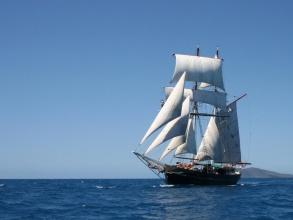fanchuan: (133, 47, 252, 192)
